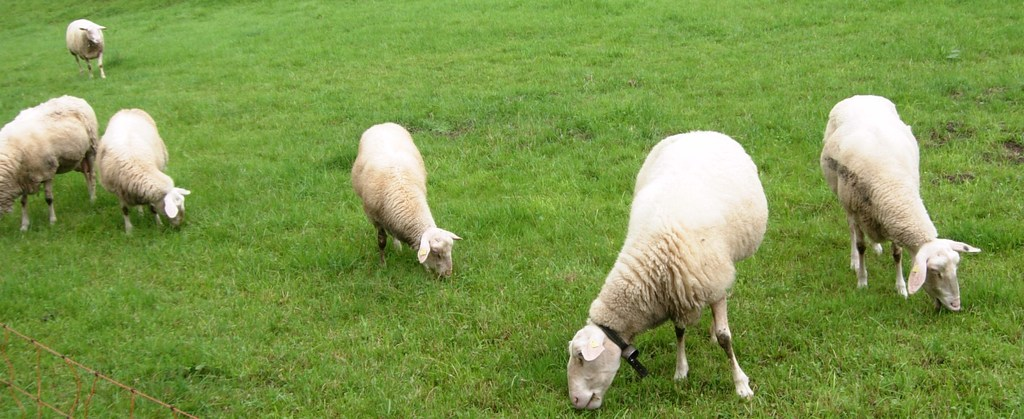sheep: (564, 126, 768, 410), (815, 93, 974, 314), (352, 121, 457, 278), (94, 108, 191, 230), (64, 17, 104, 79)
